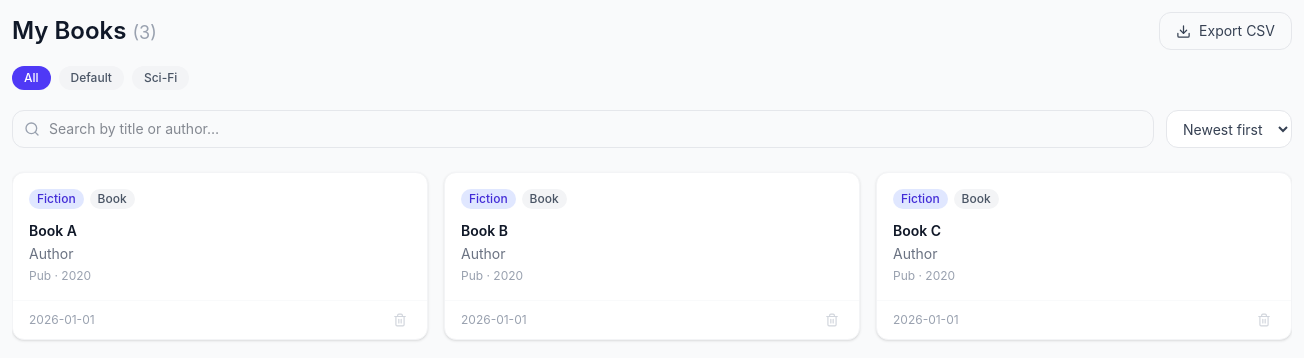
it: HistoryPage session filter chips › clicking session chip filters to that session
Click the button "Sci-Fi".
click(161, 78)  # box top-left (132, 66), bottom-right (189, 90)
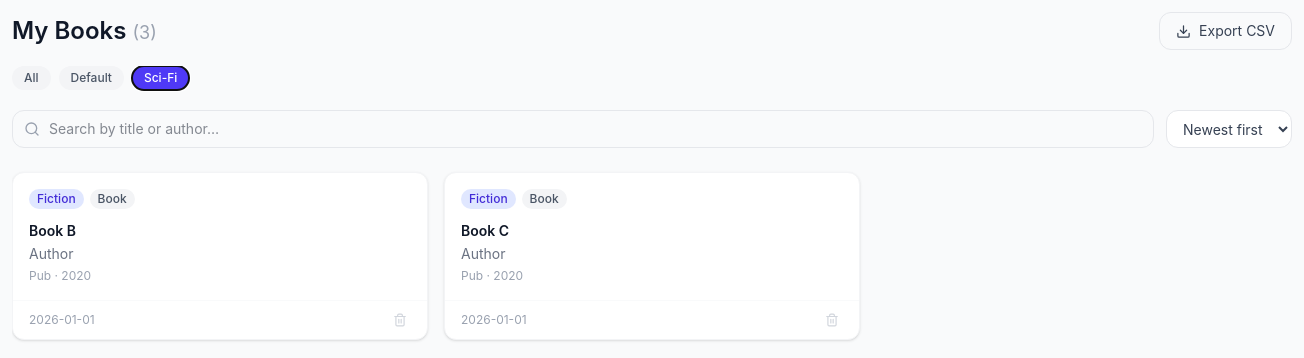
Expected: the heading "Book B" is shown, top-left (29, 222), bottom-right (76, 239)
Expected: the heading "Book A" is gone
